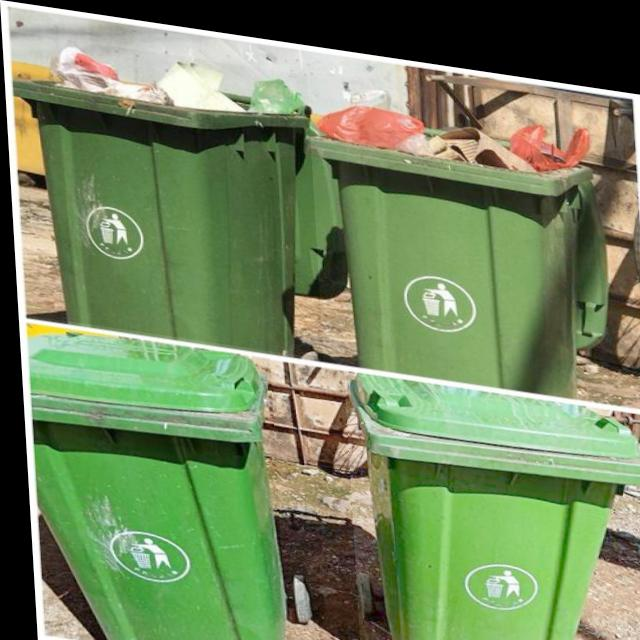garbage_bin: (340, 361, 640, 640), (21, 322, 280, 640)
overflow: (11, 32, 320, 350), (308, 78, 610, 385)
